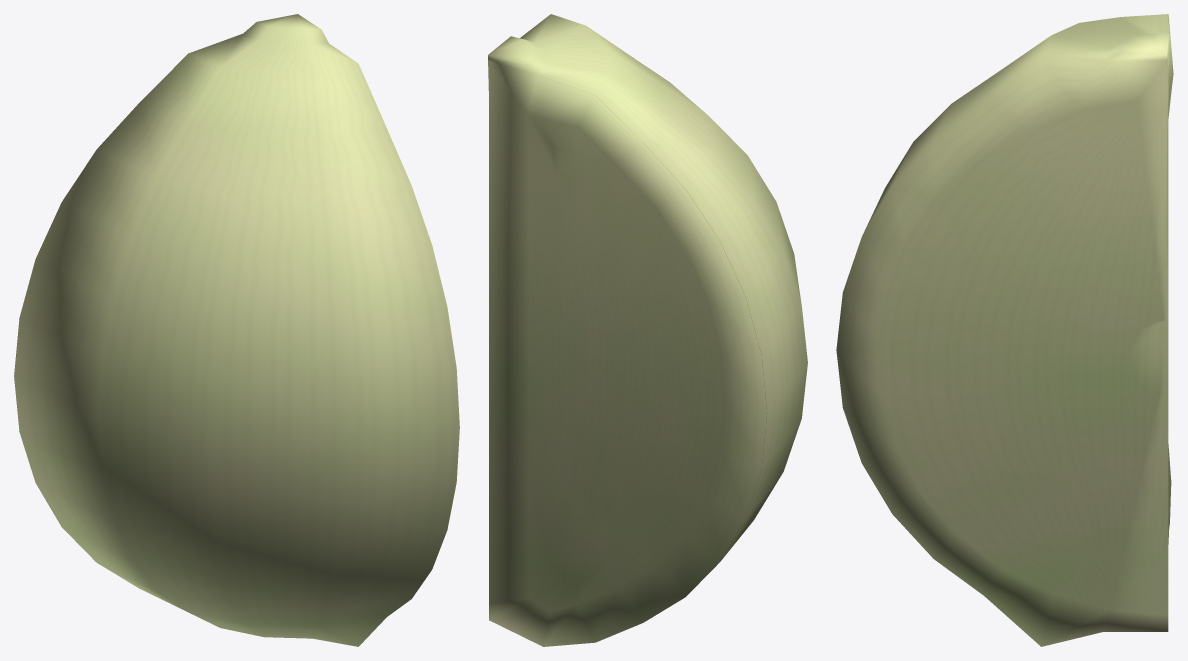
Rendered from WhiteOnion_Quarters.glb.
The picture shows the model from 3 angles, left to right: view 1: azimuth 30°, elevation 25°; view 2: azimuth 150°, elevation 25°; view 3: azimuth 270°, elevation 25°; orthographic projection. The views are drawn at different scales.
Parts seen in each view (by area): view 1: Sphere; view 2: Sphere; view 3: Sphere.
Part boxes in pixels (x1,y1,x2,y2): Sphere: [14, 14, 459, 646]; Sphere: [488, 14, 807, 646]; Sphere: [836, 14, 1173, 646].
Bounding box in the file's own units: 1.94 × 3.86 × 1.97.
Materials: 1 (1 with a texture image).
